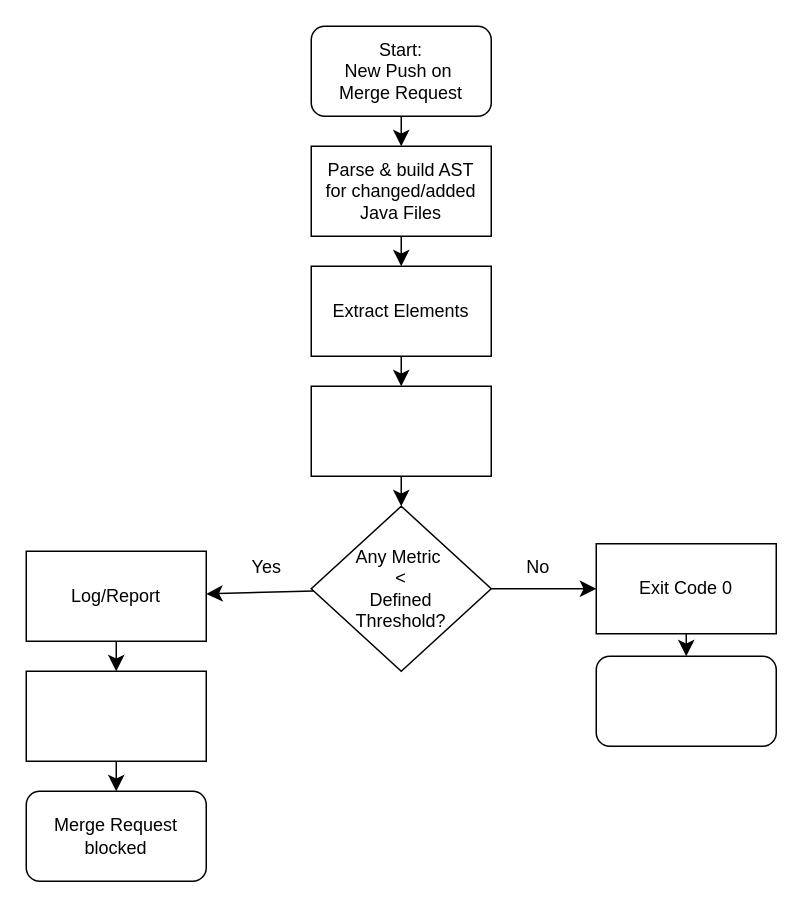
This 803x908 diagram has some shape labels left out. The box of each missing label's shape, as (x1, y1, x2, y2) in pixels:
Calculate Metrics (ANYJ, DIR, ...): (310, 385, 491, 476)
Exit Code 1 + Report: (25, 670, 206, 761)
Merge Request approved: (595, 655, 776, 746)
